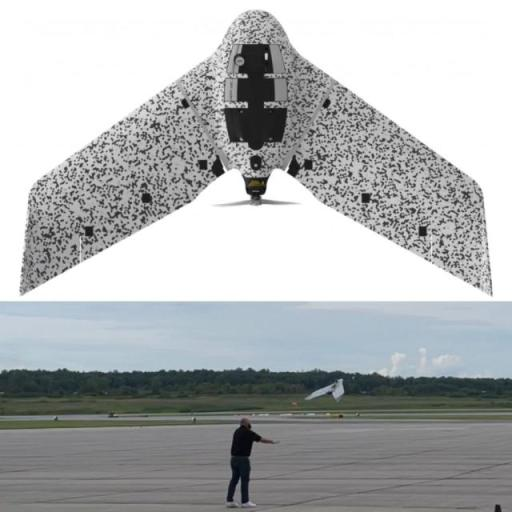uav: (18, 4, 495, 296)
